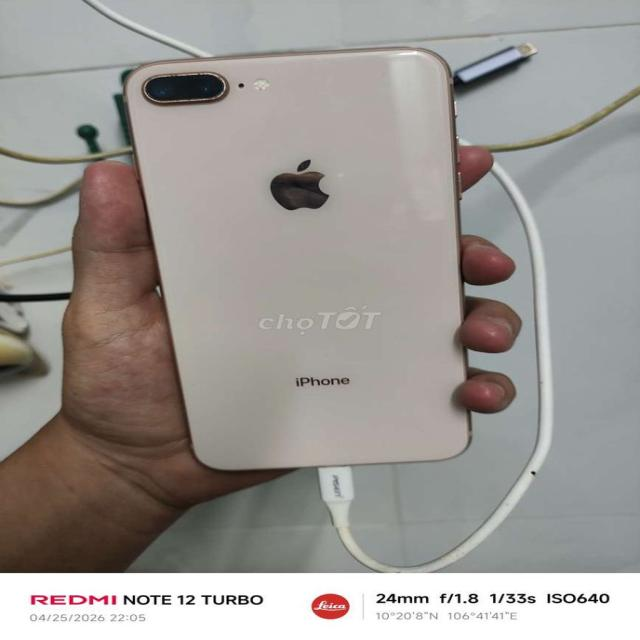gen_7_8: (119, 41, 490, 472)
